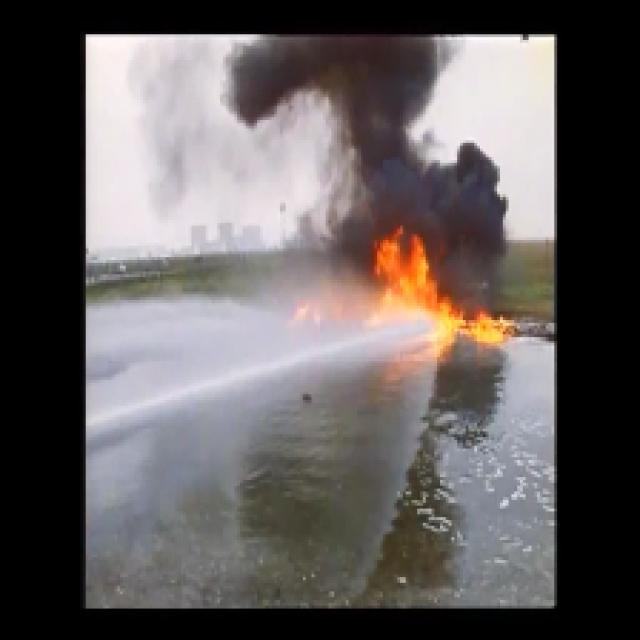Fire: (370, 234, 514, 336)
Smoke: (240, 37, 502, 223)
